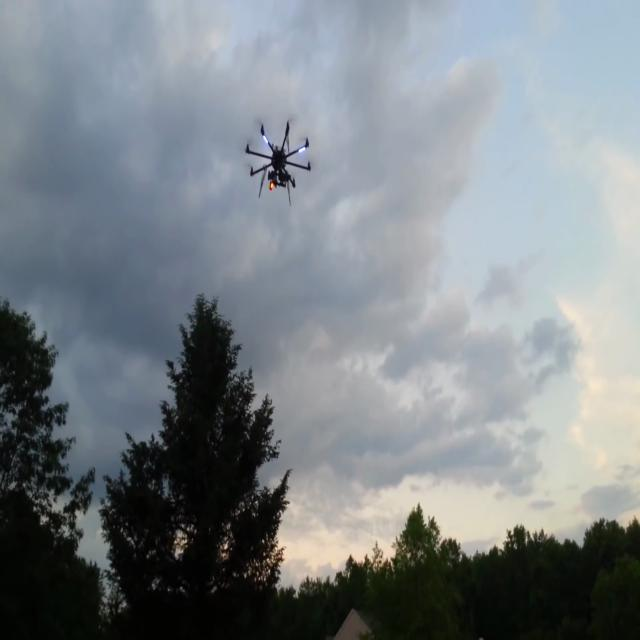drone: (251, 128, 313, 220)
